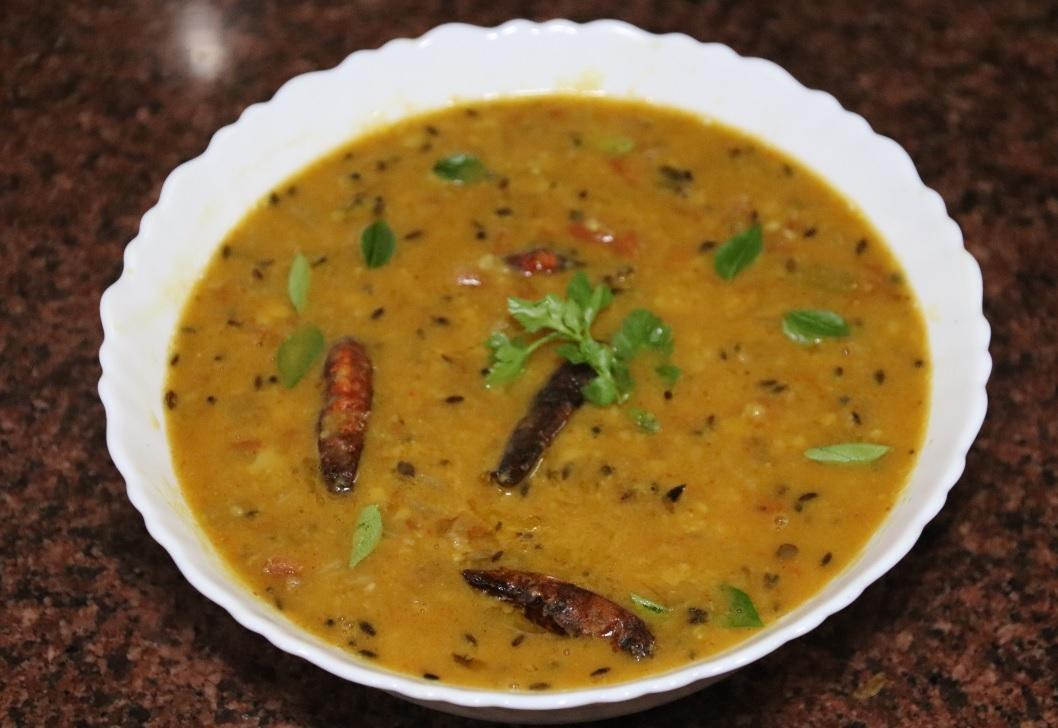dal: (126, 56, 965, 717)
